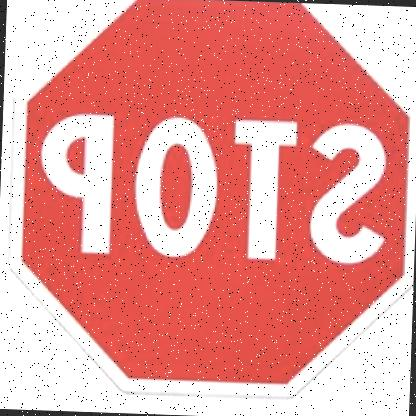stop: (1, 0, 415, 408)
